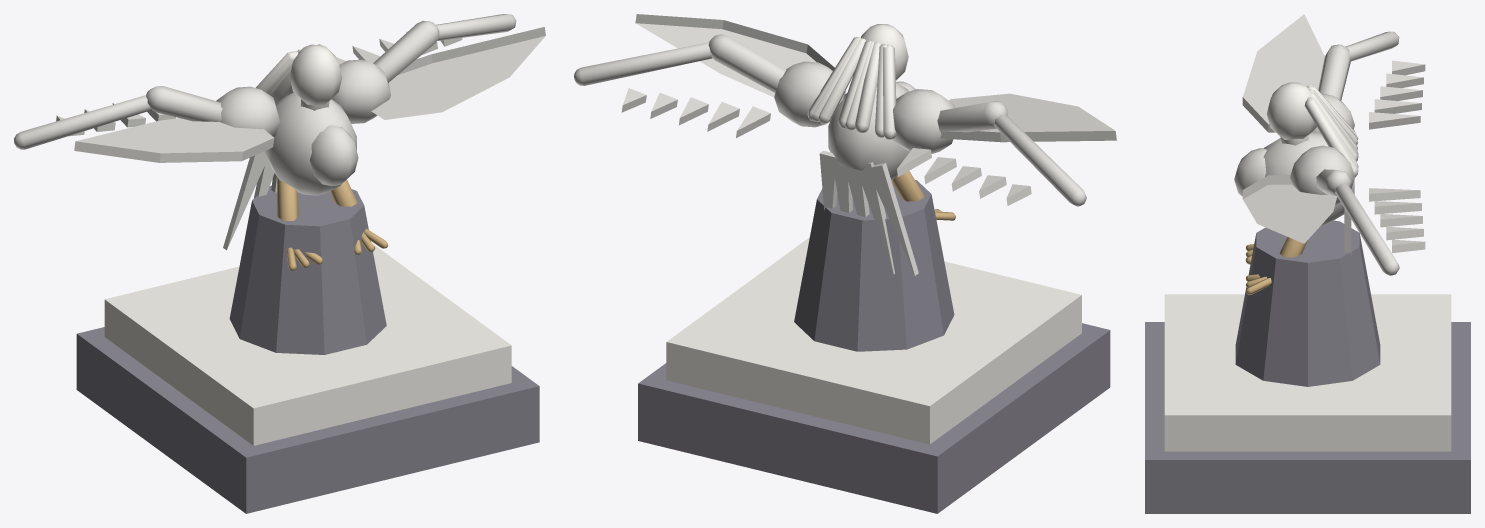
The model's file is mythic-underworld-and-olympus-harpy-statue-921395ad__21455.glb.
3 renders of one model, left to right at view 1: azimuth 30°, elevation 25°; view 2: azimuth 150°, elevation 25°; view 3: azimuth 270°, elevation 25°, orthographic. The views are drawn at different scales.
Visible parts, largest first — view 1: harpy-statue; view 2: harpy-statue; view 3: harpy-statue.
Boxes of the visible parts, <box> form: harpy-statue: <box>14,14,545,513</box>; harpy-statue: <box>574,14,1116,513</box>; harpy-statue: <box>1145,14,1470,513</box>.
Size of the model in its own units: 3.07 by 2.2 by 1.8.
